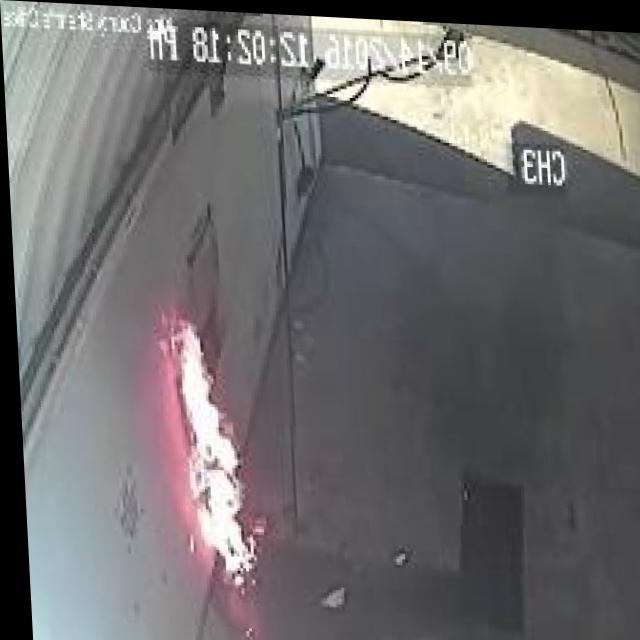fire: (147, 302, 255, 586)
